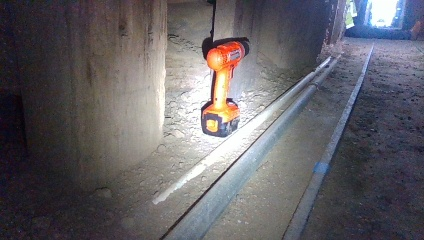drill: (199, 36, 251, 136)
manikin: (344, 25, 422, 42)
